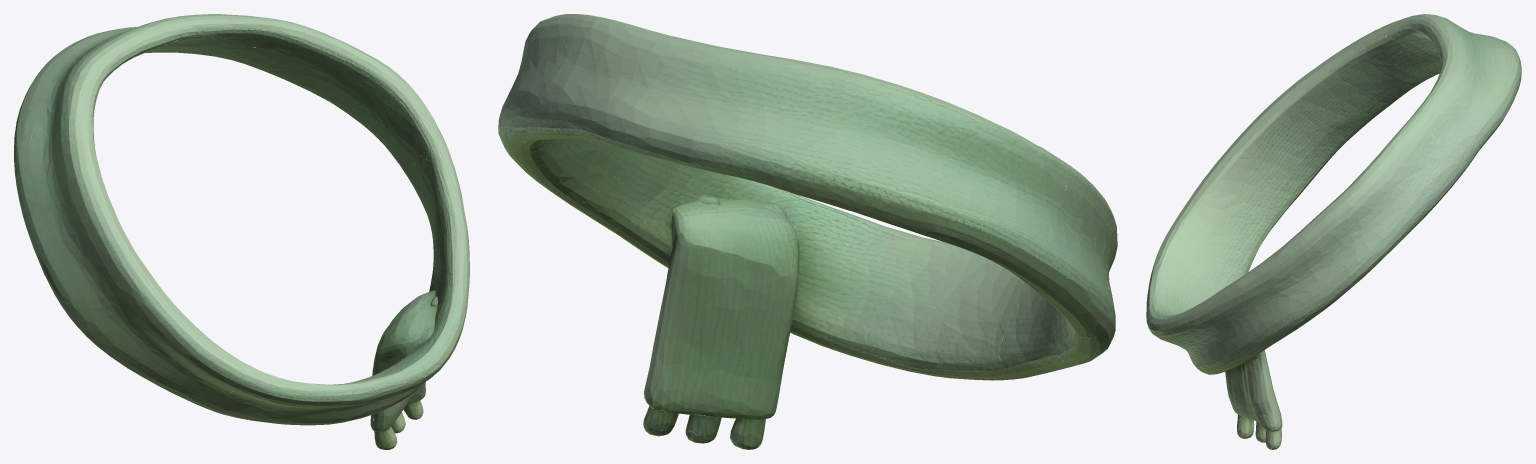
Rendered from scarf_v2.glb.
3 views of the same model, side by side, from view 1: azimuth 30°, elevation 25°; view 2: azimuth 150°, elevation 25°; view 3: azimuth 270°, elevation 25° (orthographic). The views are drawn at different scales.
Visible parts, largest first — view 1: tripo_node_d0852340-54ba-46a6-b7c5-0e40b7bdd777; view 2: tripo_node_d0852340-54ba-46a6-b7c5-0e40b7bdd777; view 3: tripo_node_d0852340-54ba-46a6-b7c5-0e40b7bdd777.
Boxes of the visible parts, x1=… form: tripo_node_d0852340-54ba-46a6-b7c5-0e40b7bdd777: x1=14, y1=14, x2=469, y2=449; tripo_node_d0852340-54ba-46a6-b7c5-0e40b7bdd777: x1=498, y1=14, x2=1117, y2=449; tripo_node_d0852340-54ba-46a6-b7c5-0e40b7bdd777: x1=1146, y1=14, x2=1521, y2=449.
Size of the model in its own units: 1.02 by 0.9266 by 0.9201.
Materials: 1 (1 with a texture image).
